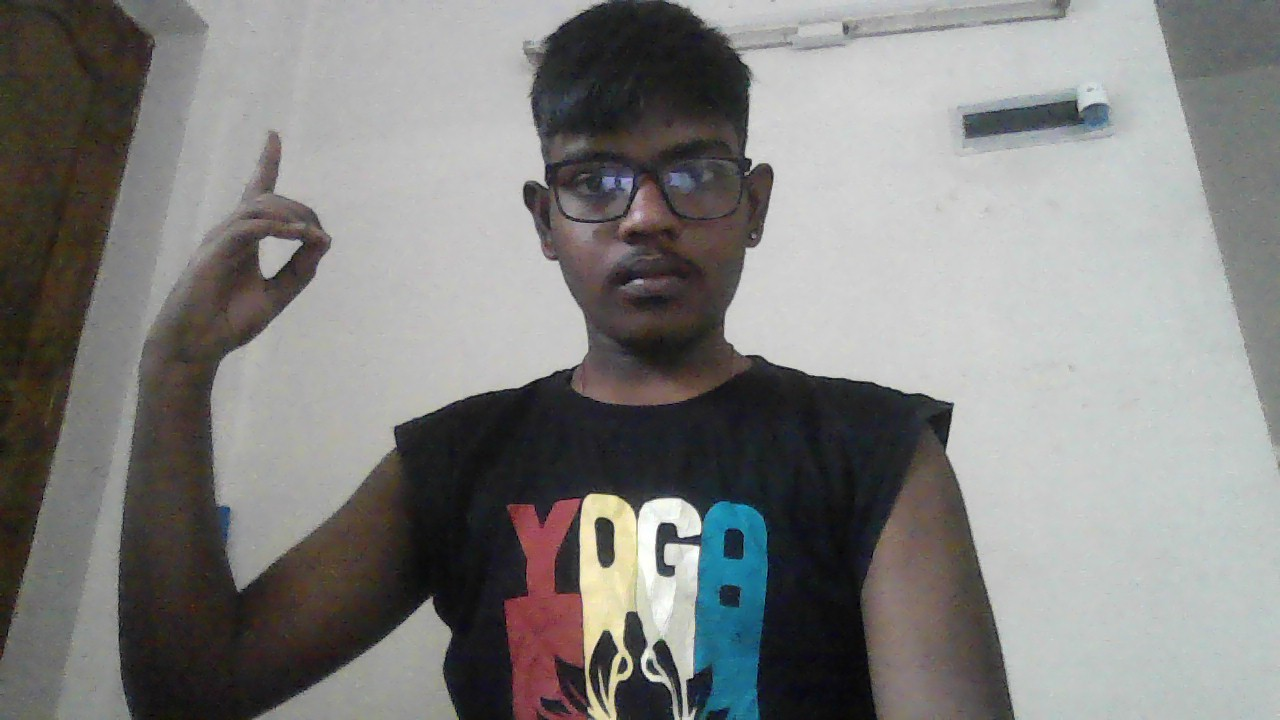D: (181, 131, 332, 365)
